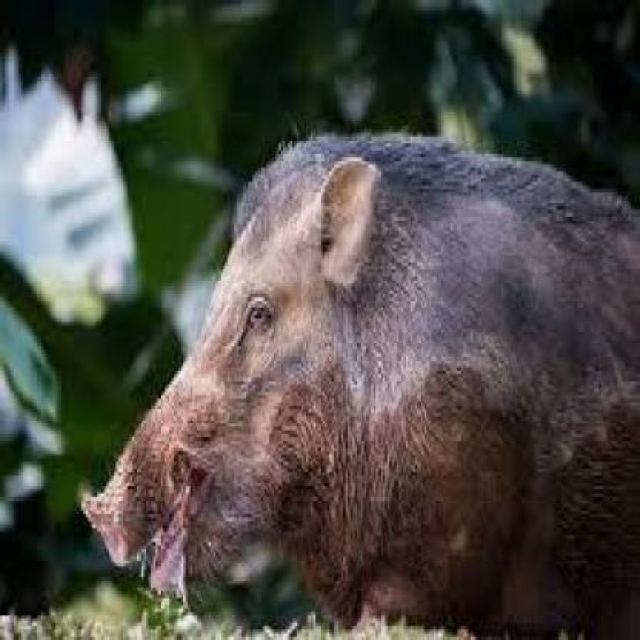wildboar: (69, 112, 640, 636)
